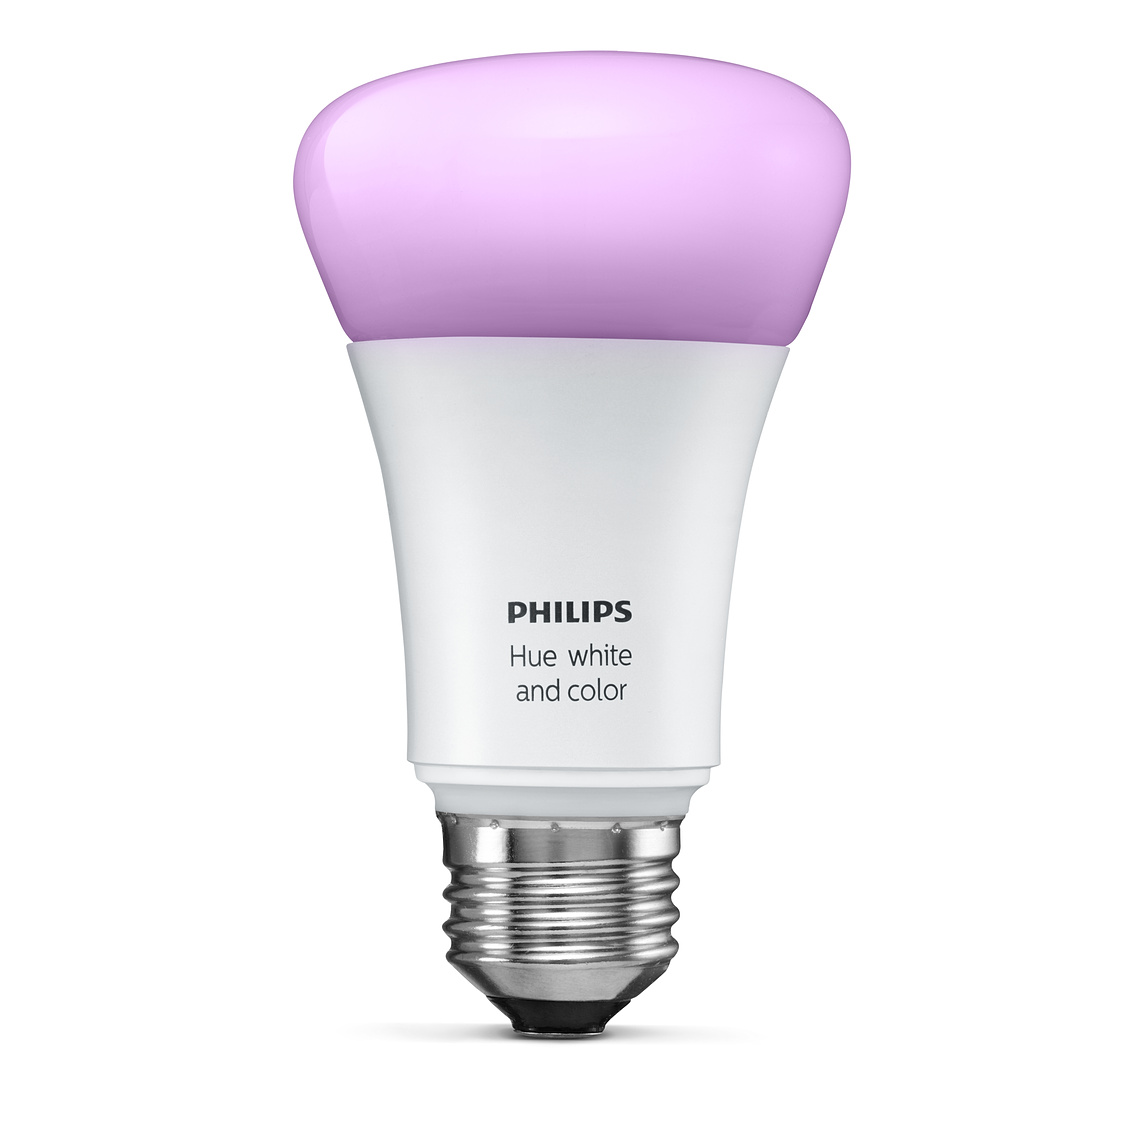Light_bulb: (267, 34, 855, 1069)
